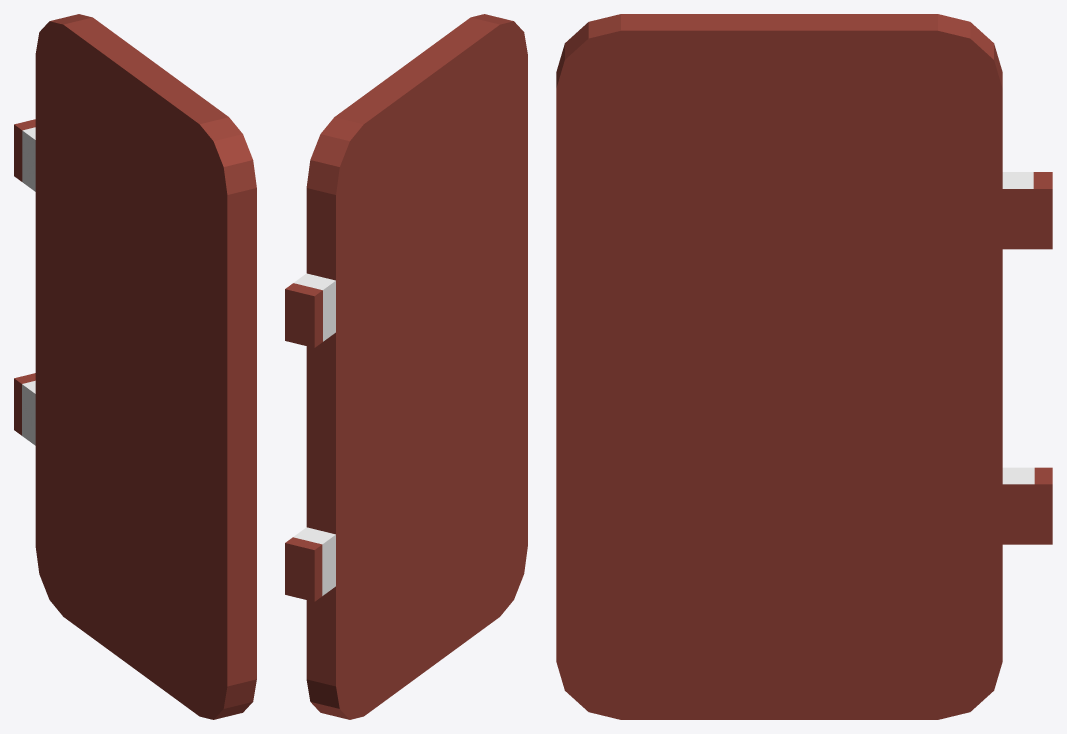
The model's file is control_crate_door.glb.
The picture shows the model from 3 angles, left to right: view 1: azimuth 30°, elevation 25°; view 2: azimuth 150°, elevation 25°; view 3: azimuth 270°, elevation 25°; orthographic projection. The views are drawn at different scales.
Visible parts, largest first — view 1: Door; view 2: Door; view 3: Door.
Boxes of the visible parts, x1,y1,x2,y2 form: Door: [14, 14, 256, 719]; Door: [285, 14, 527, 719]; Door: [556, 14, 1052, 719].
Bounding box in the file's own units: 0.0929 × 1.78 × 1.16.
1 material, 1 textured.
